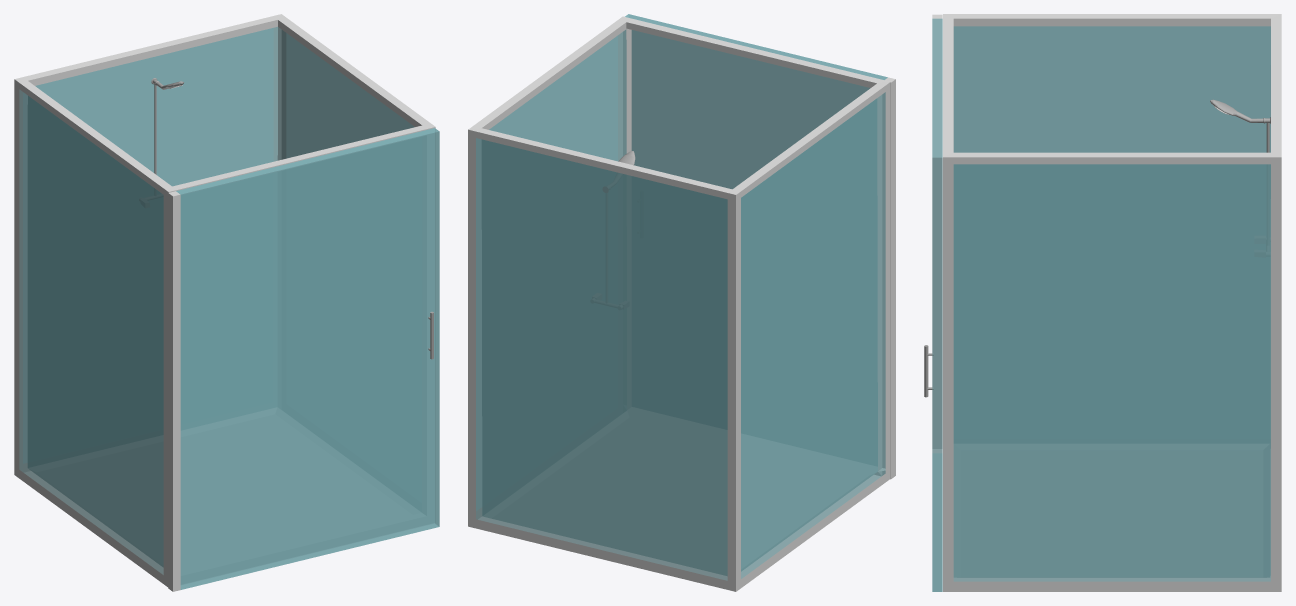
File: shower.fbx
3 renders of one model, left to right at view 1: azimuth 30°, elevation 25°; view 2: azimuth 150°, elevation 25°; view 3: azimuth 270°, elevation 25°, orthographic. The views are drawn at different scales.
Visible parts, largest first — view 1: shower_door, shower_base; view 2: shower_base, shower_door; view 3: shower_base, shower_door, shower_head.
Part boxes in pixels (x1,y1,x2,y2): shower_door: [168, 128, 439, 591]; shower_base: [14, 14, 435, 587]; shower_base: [468, 16, 890, 591]; shower_door: [625, 14, 895, 479]; shower_base: [943, 14, 1281, 591]; shower_door: [924, 14, 942, 591]; shower_head: [1210, 99, 1270, 152].
Size of the model in its own units: 988 by 1399 by 1041.
